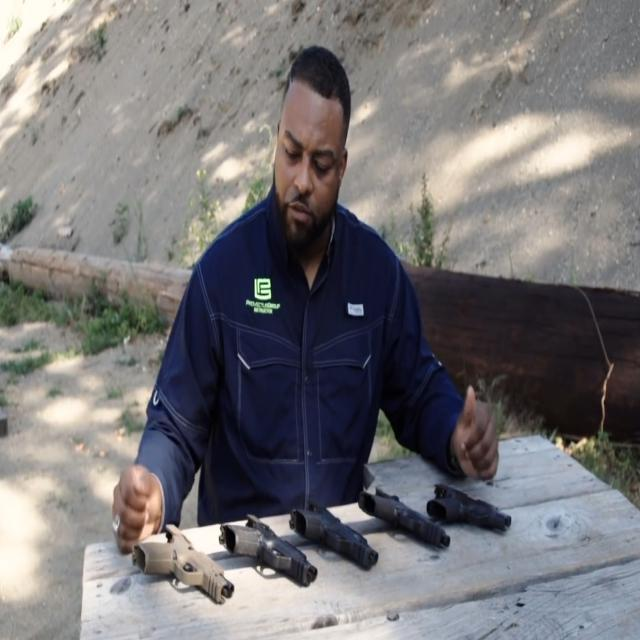handgun: (418, 458, 527, 564), (132, 510, 245, 602), (284, 487, 392, 579), (225, 502, 318, 596), (366, 474, 455, 572)
